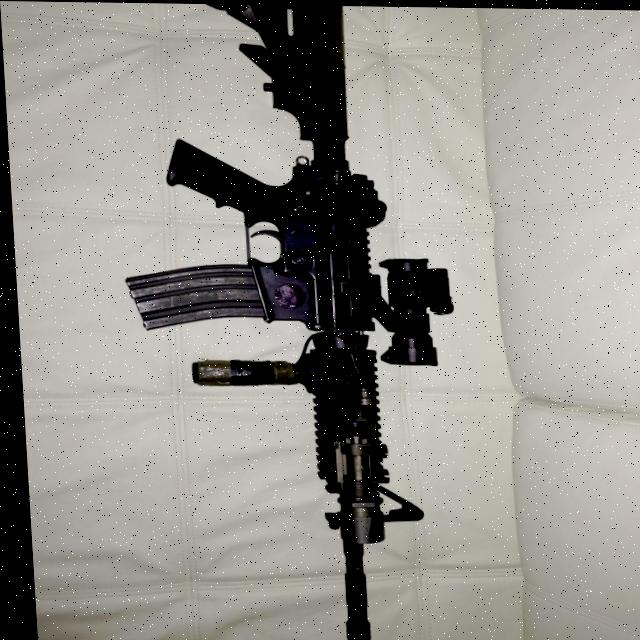firearm: (108, 1, 470, 640)
